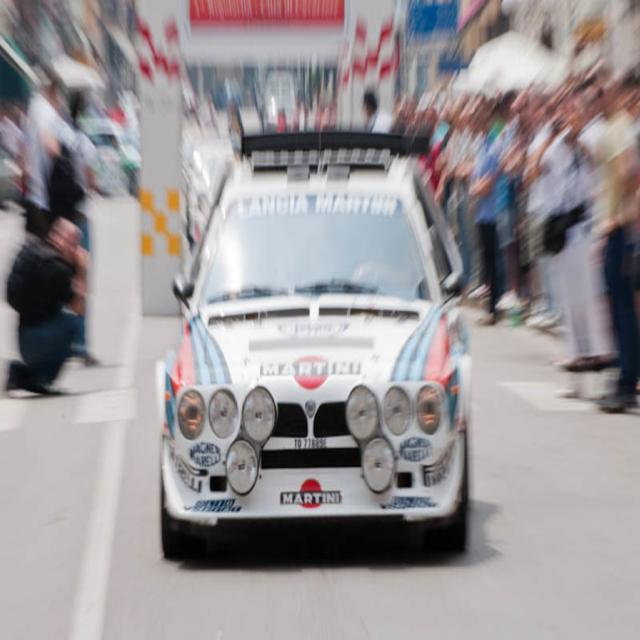car: (156, 115, 474, 556)
